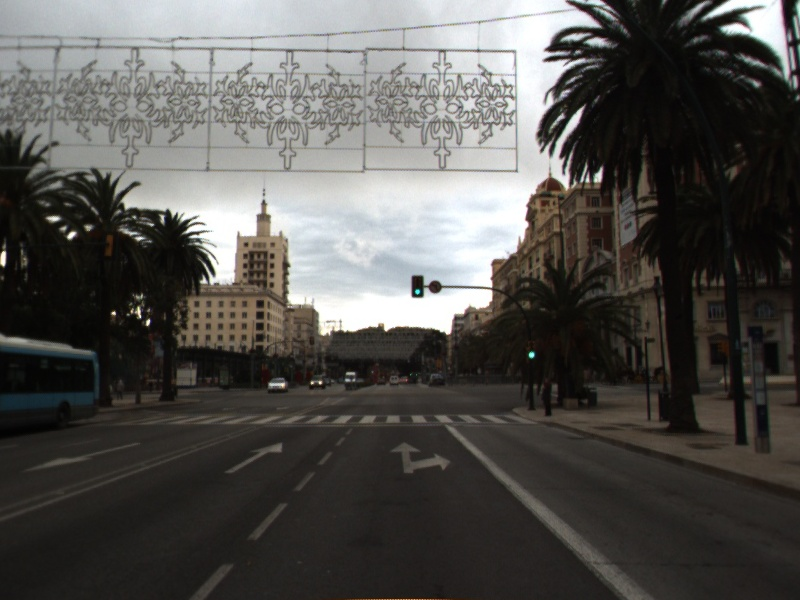STRAIGHT: (222, 440, 285, 476)
STRAIGHT_RIGHT: (387, 439, 453, 475)
